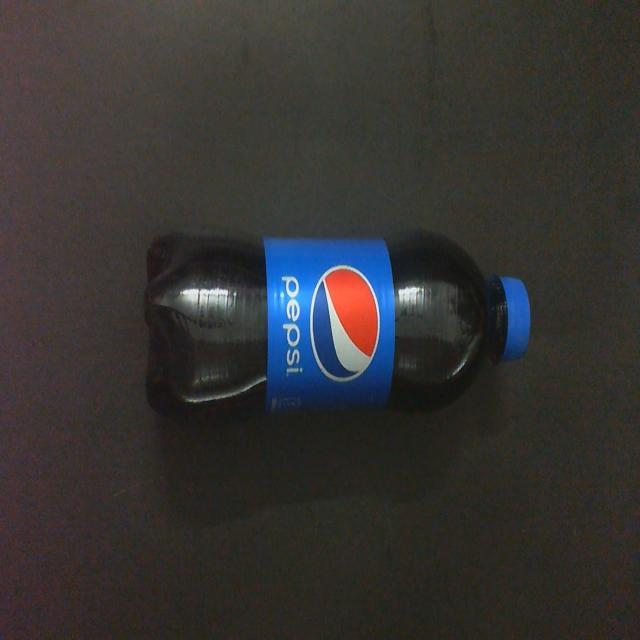non-defect: (140, 228, 533, 436)
